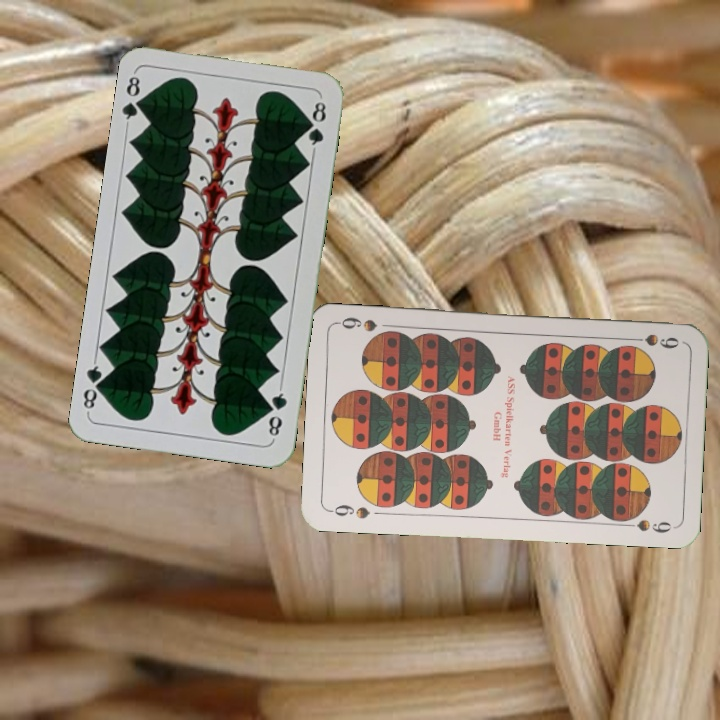G8: (119, 69, 149, 128), (264, 383, 290, 442)
S9: (624, 330, 682, 352), (325, 501, 372, 522)
